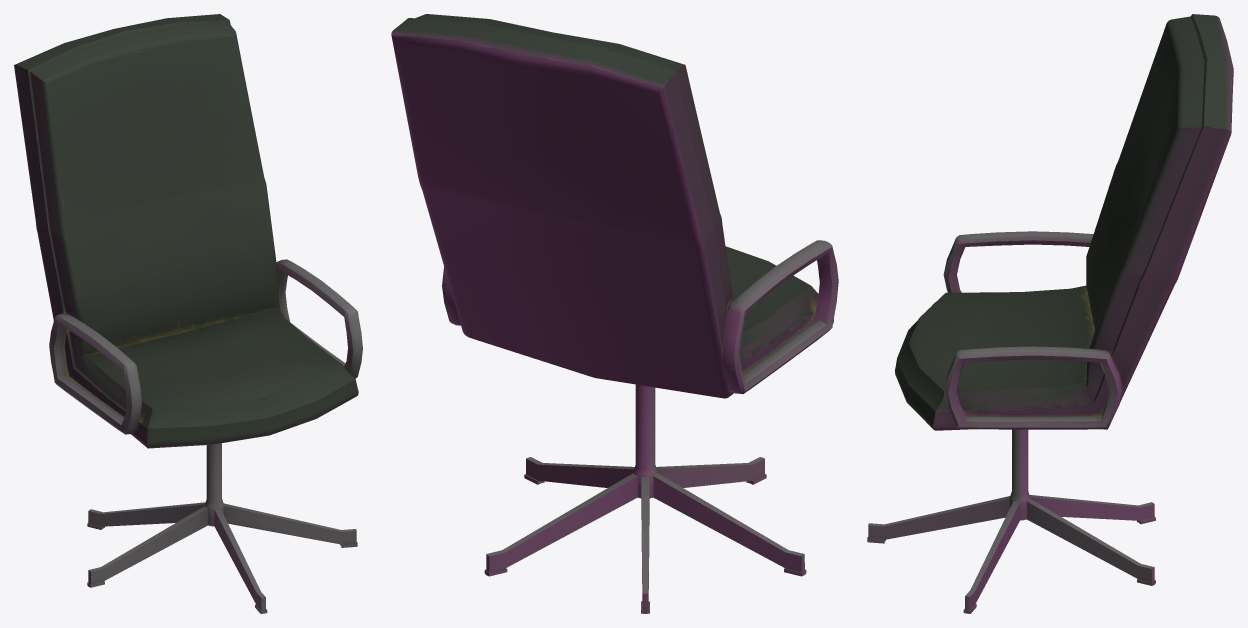
File: Office Chair.fbx
The picture shows the model from 3 angles, left to right: view 1: azimuth 30°, elevation 25°; view 2: azimuth 150°, elevation 25°; view 3: azimuth 270°, elevation 25°; orthographic projection. The views are drawn at different scales.
Visible parts, largest first — view 1: Oiffice Chair; view 2: Oiffice Chair; view 3: Oiffice Chair.
Boxes of the visible parts, x1=… form: Oiffice Chair: x1=14, y1=14, x2=362, y2=613; Oiffice Chair: x1=391, y1=14, x2=838, y2=613; Oiffice Chair: x1=867, y1=14, x2=1233, y2=613.
Size of the model in its own units: 58.28 by 105 by 70.79.
